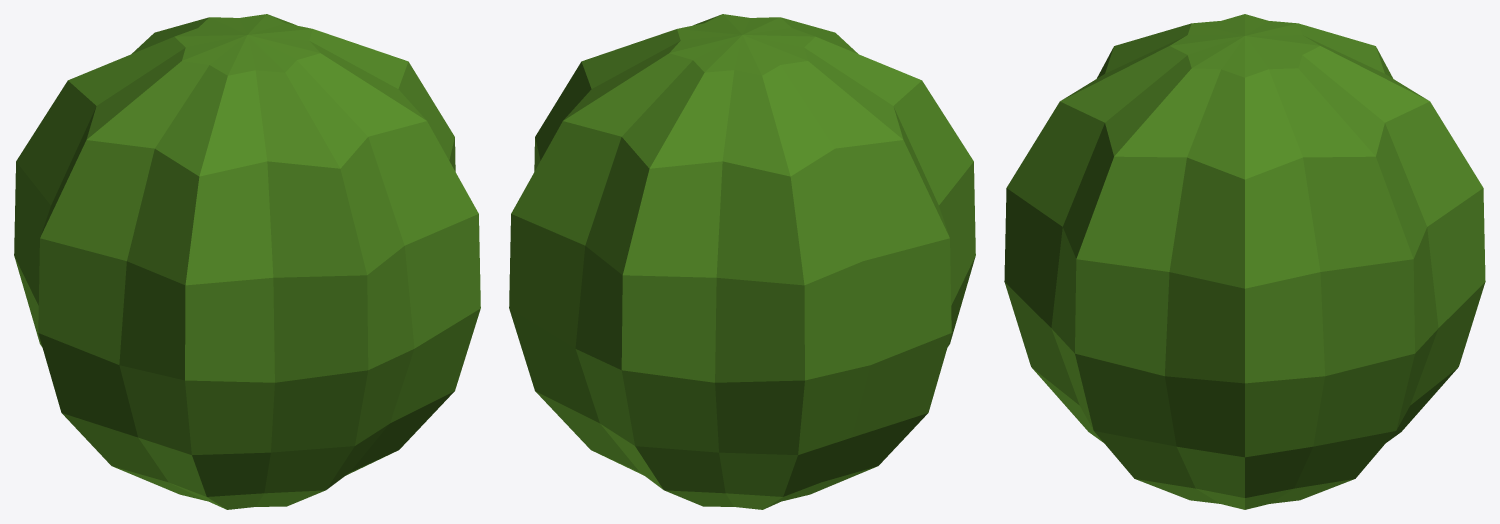
Rendered from Cactus_15_A.fbx.
3 views of the same model, side by side, from view 1: azimuth 30°, elevation 25°; view 2: azimuth 150°, elevation 25°; view 3: azimuth 270°, elevation 25° (orthographic).
Visible parts, largest first — view 1: Cactus_15_A; view 2: Cactus_15_A; view 3: Cactus_15_A.
Boxes of the visible parts, bbox=[...] form: Cactus_15_A: bbox=[14, 14, 480, 509]; Cactus_15_A: bbox=[509, 14, 975, 509]; Cactus_15_A: bbox=[1004, 14, 1485, 509].
Size of the model in its own units: 96.7 by 101 by 96.7.
